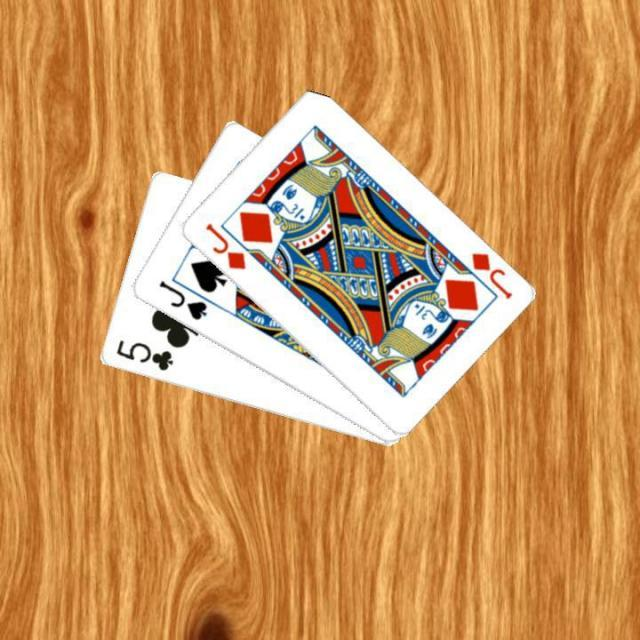5C: (111, 336, 174, 374)
JD: (200, 219, 247, 273), (467, 248, 514, 302)
JS: (155, 277, 209, 323)
